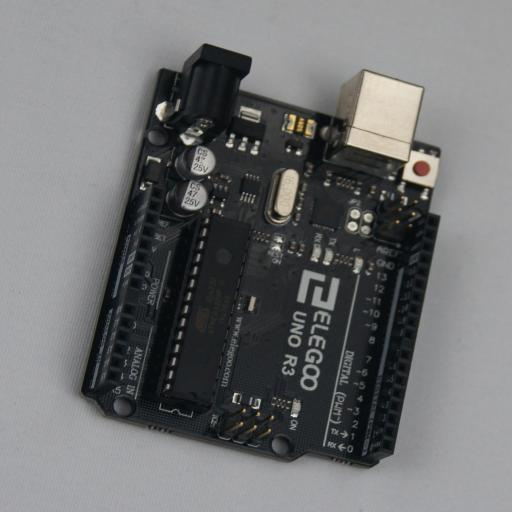Arduino Uno -Black-: (76, 44, 441, 468)
